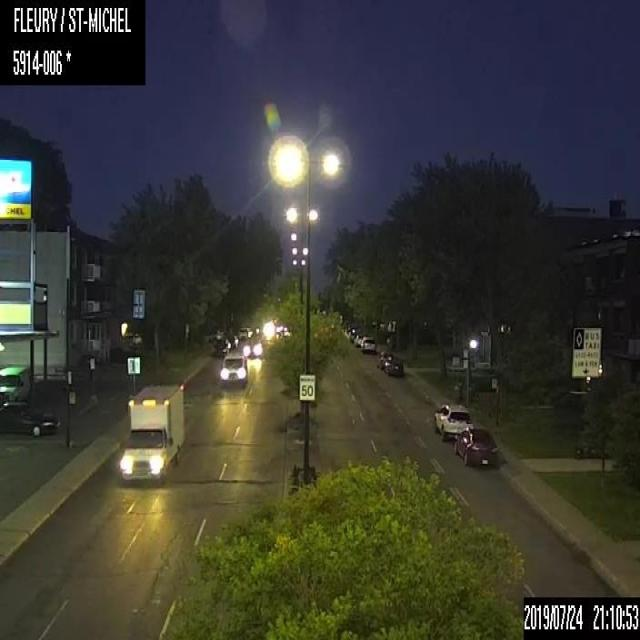vehicle: (118, 379, 186, 485), (0, 400, 61, 440), (457, 426, 498, 468), (431, 400, 472, 440), (0, 363, 33, 405), (217, 347, 247, 391), (242, 338, 264, 358), (213, 337, 231, 356), (376, 350, 392, 367), (359, 335, 375, 351), (385, 360, 402, 374), (237, 326, 251, 340)
